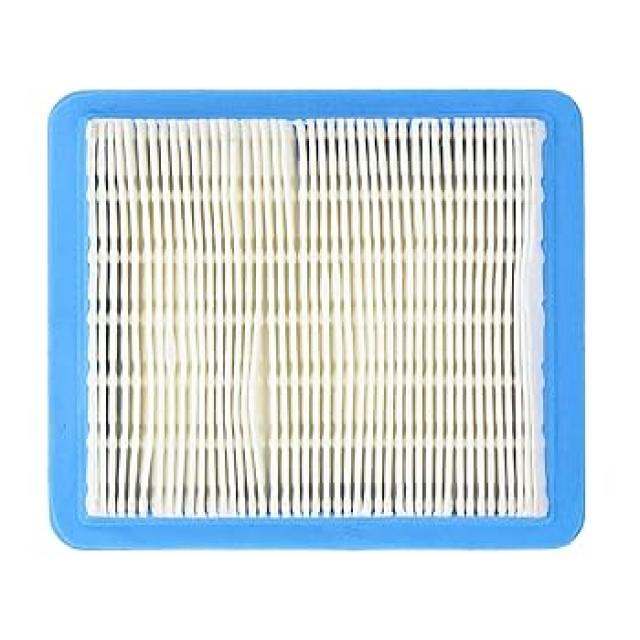air_filter: (41, 76, 593, 588)
